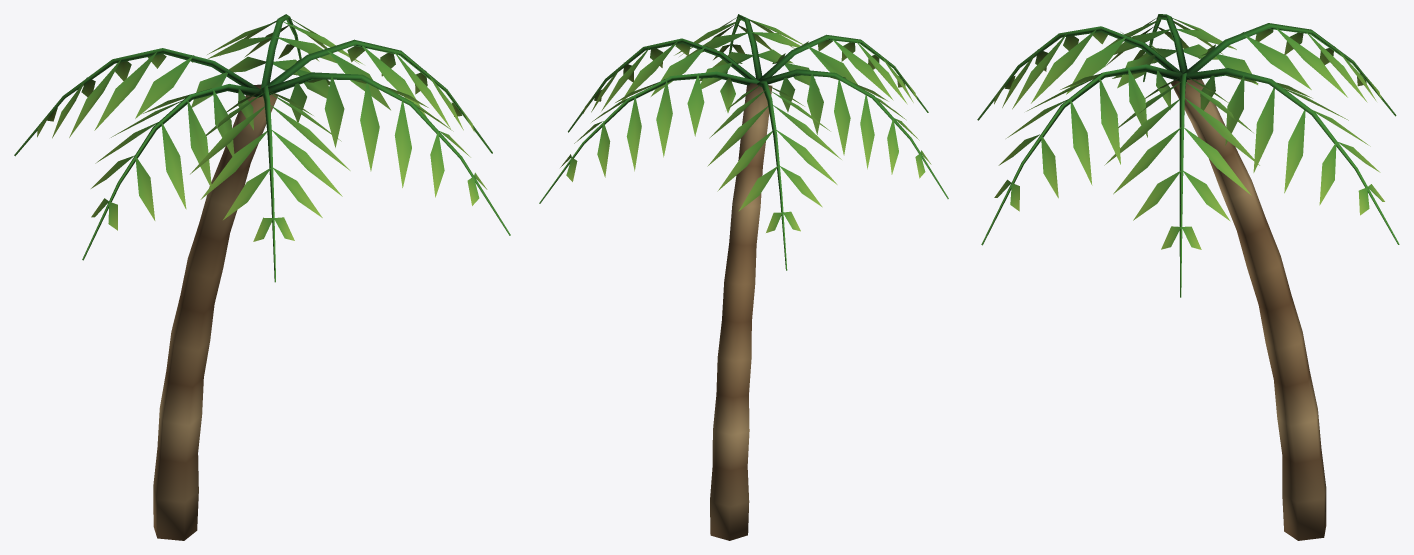
Rendered from tree-palm-far.glb.
3 renders of one model, left to right at view 1: azimuth 30°, elevation 25°; view 2: azimuth 150°, elevation 25°; view 3: azimuth 270°, elevation 25°, orthographic. The views are drawn at different scales.
Parts seen in each view (by area): view 1: 1_leaves.007, 0_trunk.007; view 2: 1_leaves.007, 0_trunk.007; view 3: 1_leaves.007, 0_trunk.007.
Part boxes in pixels (x1,y1,x2,y2): 1_leaves.007: (14, 14, 510, 282); 0_trunk.007: (153, 84, 277, 540); 1_leaves.007: (539, 14, 948, 270); 0_trunk.007: (710, 83, 772, 540); 1_leaves.007: (977, 14, 1399, 297); 0_trunk.007: (1171, 72, 1326, 540).
Bounding box in the file's own units: 5.06 × 5.77 × 4.41.
